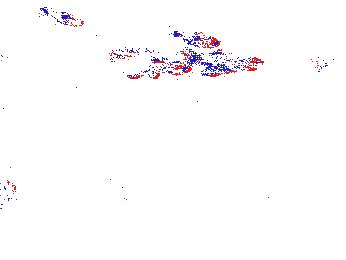X-ray fish: (100, 157, 131, 203)
red belly glassfish: (171, 28, 223, 50), (42, 7, 86, 30)
redtail glassfish: (101, 40, 191, 80), (183, 45, 269, 78), (309, 54, 346, 77)
